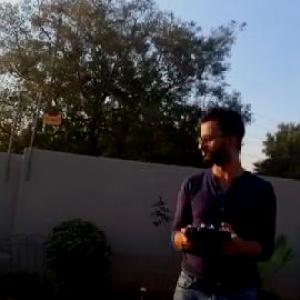follow: (164, 98, 284, 299)
